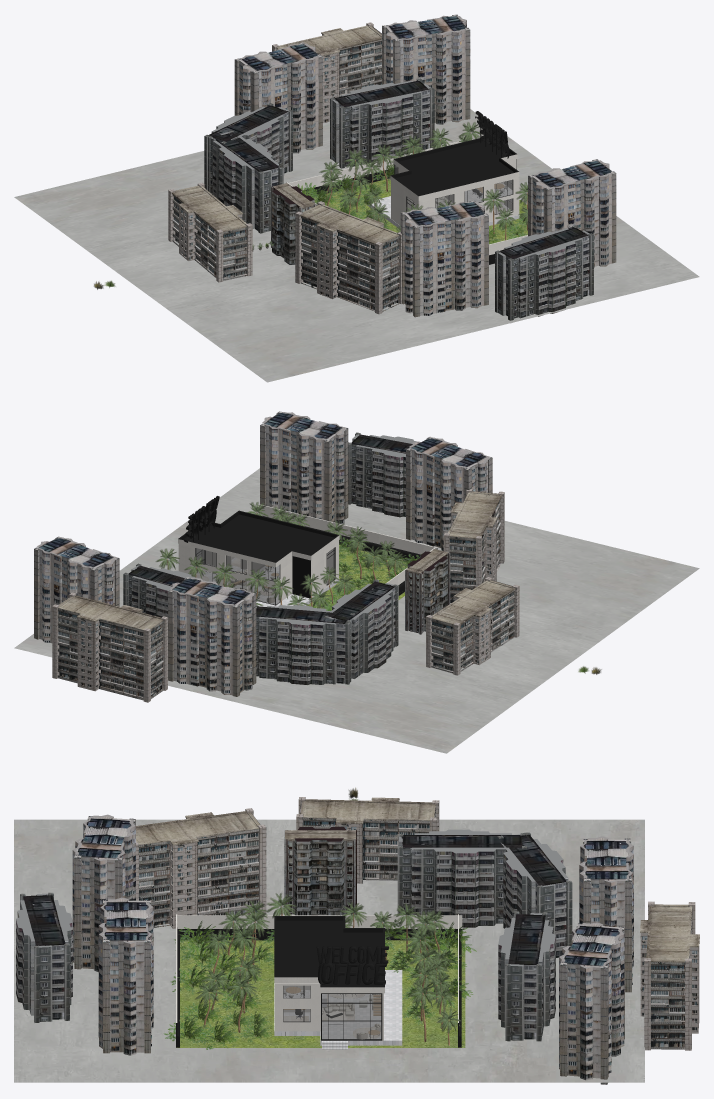
Rendered from office-koramangala.glb.
3 views of the same model, one above another, from view 1: azimuth 30°, elevation 25°; view 2: azimuth 150°, elevation 25°; view 3: azimuth 270°, elevation 25° (orthographic). The views are drawn at different scales.
Parts seen in each view (by area): view 1: Plane.097_Material.013_0, Plane.102_Material.023_0, Plane.100_Material.022_0, Cube.037_Material.018_0, 3f84aea6648aa6cc5af5f07ee43c6056-no-bg-preview (carve.photos, Cube.037_Material.015_0, Cube.037_Material.019_0, Cube.002_Material.002_0, Plane.001_Material.001_0, Plane.019_Material.017_0, Cube.038_Material.020_0, Cube.034_Material.001_0 (+4 smaller); view 2: Plane.097_Material.013_0, Plane.102_Material.023_0, Plane.100_Material.022_0, Cube.037_Material.018_0, 3f84aea6648aa6cc5af5f07ee43c6056-no-bg-preview (carve.photos, Cube.037_Material.015_0, Cube.002_Material.002_0, Cube.037_Material.019_0, Plane.001_Material.001_0, Cube.038_Material.020_0, Plane.020_Material.004_0, Cube.034_Material.001_0 (+4 smaller); view 3: Plane.097_Material.013_0, Plane.102_Material.023_0, Plane.100_Material.022_0, 3f84aea6648aa6cc5af5f07ee43c6056-no-bg-preview (carve.photos, Cube.037_Material.018_0, Plane.019_Material.017_0, Cube.037_Material.015_0, Cube.037_Material.019_0, Cube.002_Material.002_0, Cube.038_Material.020_0, Cube.034_Material.002_0, object 2 (+6 smaller).
Boxes of the visible parts, <box> form: Plane.097_Material.013_0: <box>14,109,699,382</box>; Plane.102_Material.023_0: <box>234,14,616,317</box>; Plane.100_Material.022_0: <box>204,78,593,320</box>; Cube.037_Material.018_0: <box>168,22,401,314</box>; 3f84aea6648aa6cc5af5f07ee43c6056-no-bg-preview (carve.photos: <box>94,122,527,289</box>; Cube.037_Material.015_0: <box>172,25,398,244</box>; Cube.037_Material.019_0: <box>174,41,398,310</box>; Cube.002_Material.002_0: <box>390,137,518,214</box>; Plane.001_Material.001_0: <box>390,154,519,225</box>; Plane.019_Material.017_0: <box>314,179,527,243</box>; Cube.038_Material.020_0: <box>271,183,315,264</box>; Cube.034_Material.001_0: <box>286,141,527,255</box>; Plane.097_Material.013_0: <box>14,468,699,753</box>; Plane.102_Material.023_0: <box>34,411,492,696</box>; Plane.100_Material.022_0: <box>123,432,416,684</box>; Cube.037_Material.018_0: <box>52,489,519,702</box>; 3f84aea6648aa6cc5af5f07ee43c6056-no-bg-preview (carve.photos: <box>155,502,601,674</box>; Cube.037_Material.015_0: <box>58,491,515,630</box>; Cube.002_Material.002_0: <box>178,510,339,605</box>; Cube.037_Material.019_0: <box>58,501,513,696</box>; Plane.001_Material.001_0: <box>178,535,339,601</box>; Cube.038_Material.020_0: <box>405,549,450,634</box>; Plane.020_Material.004_0: <box>195,548,334,604</box>; Cube.034_Material.001_0: <box>258,504,437,584</box>; Plane.097_Material.013_0: <box>14,819,644,1082</box>; Plane.102_Material.023_0: <box>72,814,633,1084</box>; Plane.100_Material.022_0: <box>16,829,572,1041</box>; 3f84aea6648aa6cc5af5f07ee43c6056-no-bg-preview (carve.photos: <box>163,787,476,1049</box>; Cube.037_Material.018_0: <box>136,797,699,1050</box>; Plane.019_Material.017_0: <box>176,936,465,1047</box>; Cube.037_Material.015_0: <box>136,797,699,962</box>; Cube.037_Material.019_0: <box>139,820,684,1037</box>; Cube.002_Material.002_0: <box>274,916,384,1040</box>; Cube.038_Material.020_0: <box>284,827,356,915</box>; Cube.034_Material.002_0: <box>176,927,462,1047</box>; object 2: <box>274,970,402,1049</box>.
Size of the model in its own units: 61.72 by 13.96 by 62.71.
Materials: 27 (24 with a texture image).
